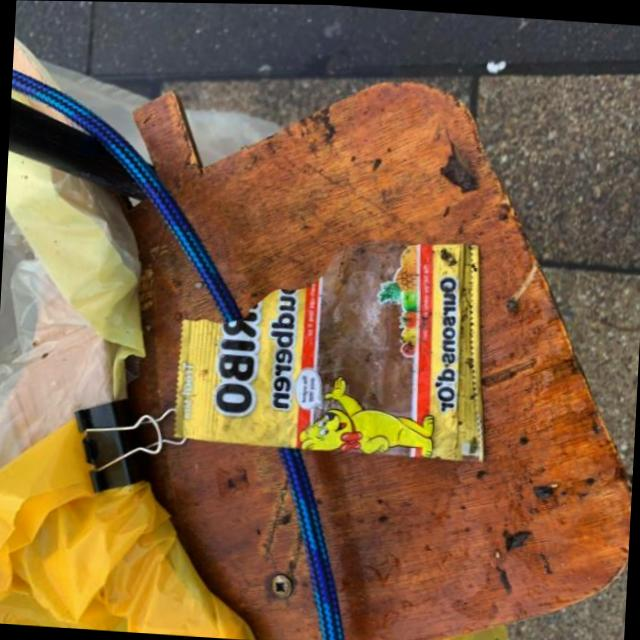Plastic: (170, 220, 502, 464)
